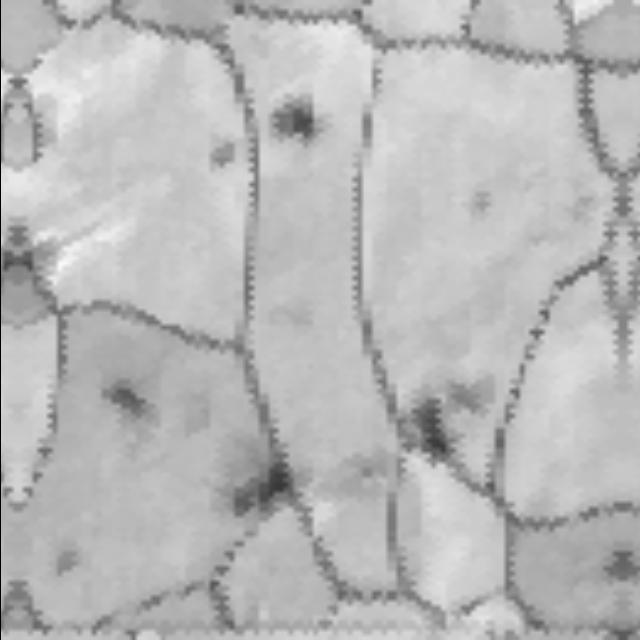good_void: (220, 443, 310, 538), (399, 394, 457, 475), (104, 370, 164, 430), (263, 86, 321, 148), (201, 133, 244, 181), (44, 540, 86, 582)
